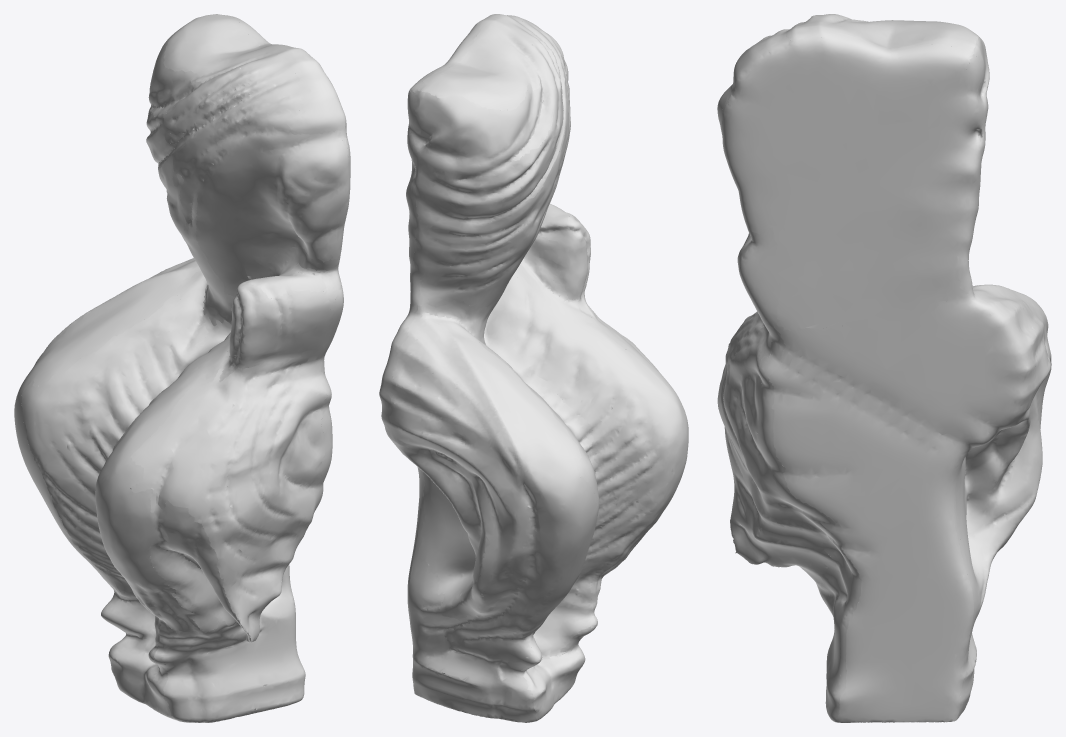
The model's file is seated-buddha.glb.
3 renders of one model, left to right at view 1: azimuth 30°, elevation 25°; view 2: azimuth 150°, elevation 25°; view 3: azimuth 270°, elevation 25°, orthographic. The views are drawn at different scales.
Parts seen in each view (by area): view 1: Optimized_Joined_NO_MATERIAL; view 2: Optimized_Joined_NO_MATERIAL; view 3: Optimized_Joined_NO_MATERIAL.
Boxes of the visible parts, x1,y1,x2,y2 form: Optimized_Joined_NO_MATERIAL: (14, 14, 350, 722); Optimized_Joined_NO_MATERIAL: (379, 14, 688, 722); Optimized_Joined_NO_MATERIAL: (717, 14, 1051, 722).
Bounding box in the file's own units: 45 × 130 × 57.34.
Materials: 1 (1 with a texture image).
